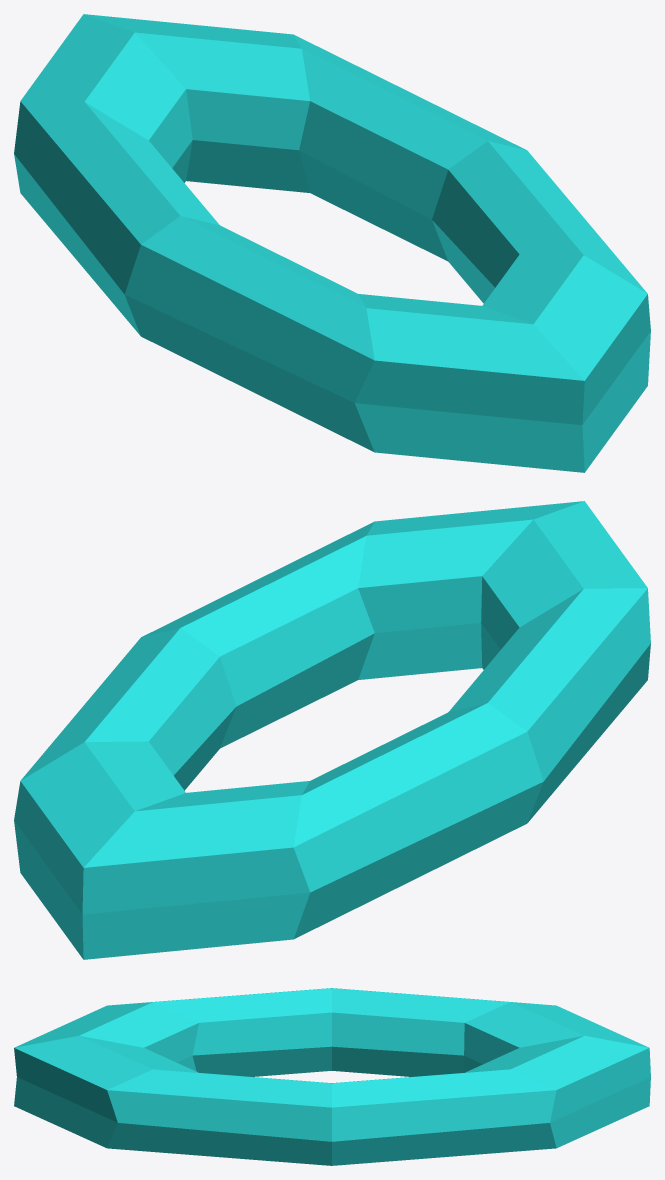
Rendered from Chain_Link.fbx.
The picture shows the model from 3 angles, top to bottom: view 1: azimuth 30°, elevation 25°; view 2: azimuth 150°, elevation 25°; view 3: azimuth 270°, elevation 25°; orthographic projection. The views are drawn at different scales.
Visible parts, largest first — view 1: Torus; view 2: Torus; view 3: Torus.
Part boxes in pixels (x1=…): Torus: x1=14, y1=14, x2=650, y2=472; Torus: x1=14, y1=501, x2=650, y2=959; Torus: x1=14, y1=988, x2=650, y2=1165.
Bounding box in the file's own units: 21.55 × 6.39 × 44.72.
